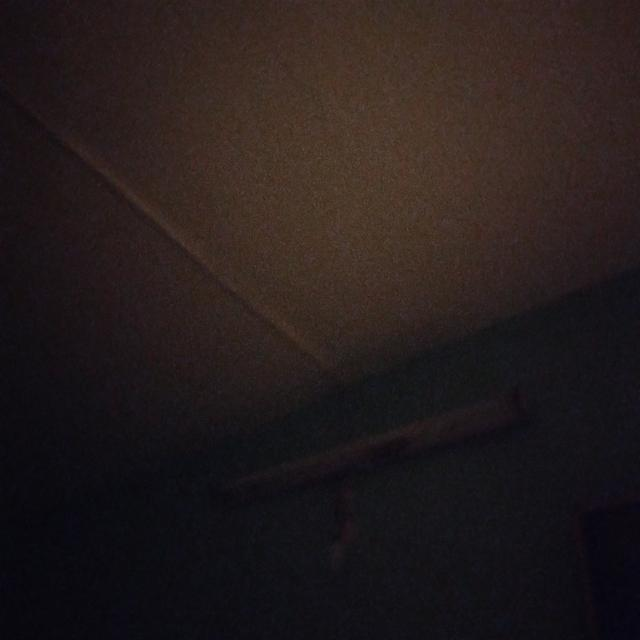tubelight_off: (217, 382, 532, 509)
